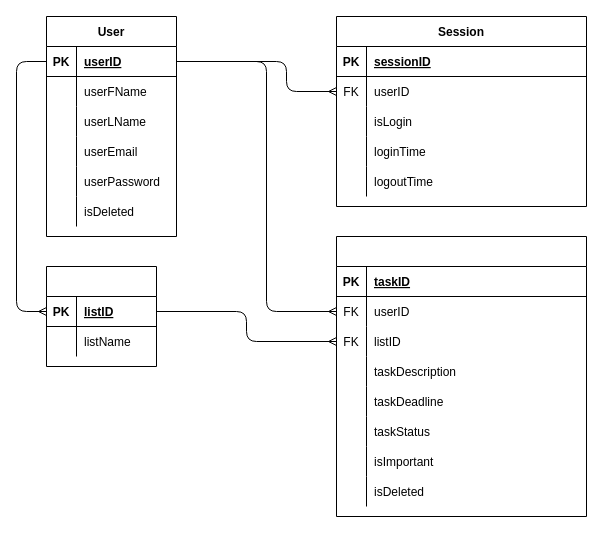
Some shapes in this 603 by 533 pixel diagram are drawn without their labels. The shapes that lost their labels are listed below. From the top down, each one's box as (x1, y1, x2, y2) in pixels, then its label:
(46, 266, 156, 366): ToDoList
(336, 236, 586, 516): ToDoTask
